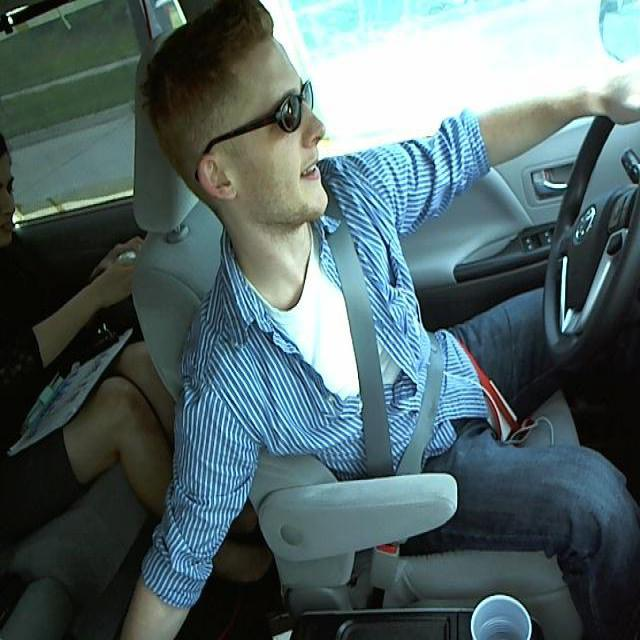seatbelt: (327, 217, 427, 467)
